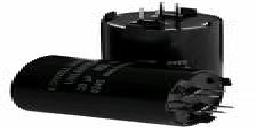Electrolytic-Capacitor: (13, 52, 229, 128), (100, 1, 227, 52)
